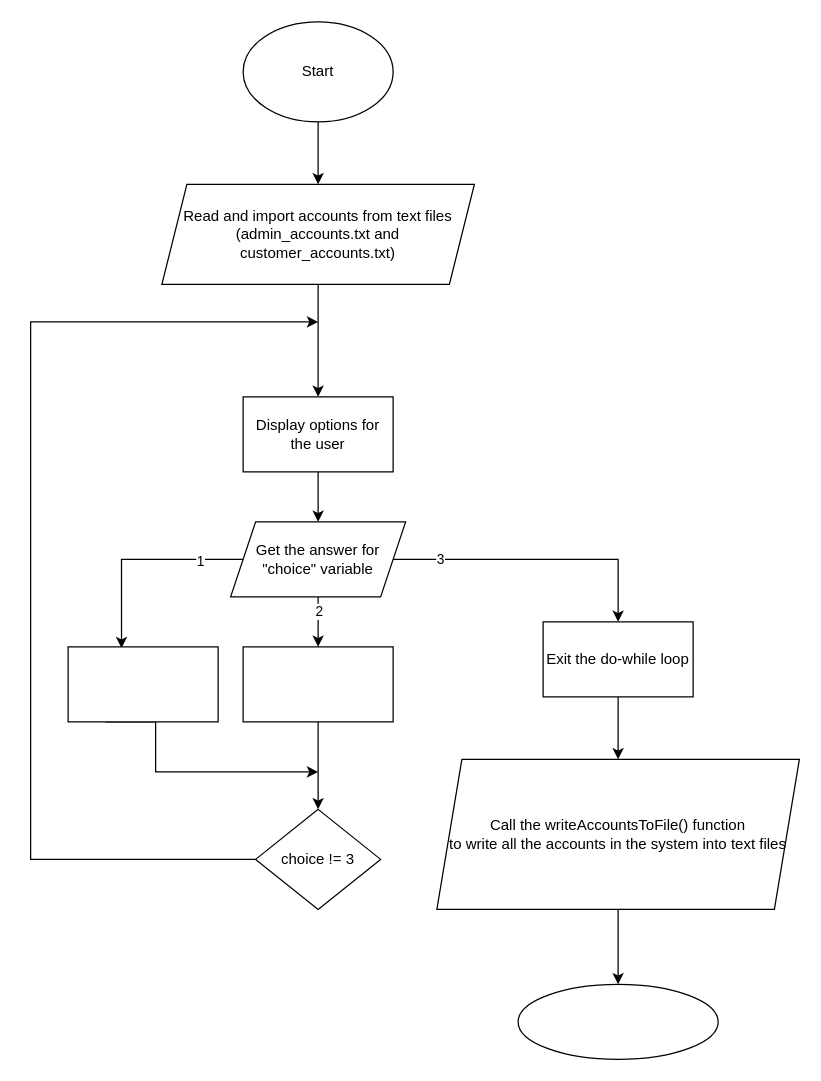
Some shapes in this 821 by 1081 pixel diagram are drawn without their labels. The centre of each missing label's shape, as x and y in pixels:
"Call the adminMenu() function" goes at [142,684].
"Call the customerMenu() function" goes at [317,684].
"End" goes at [617,1021].
